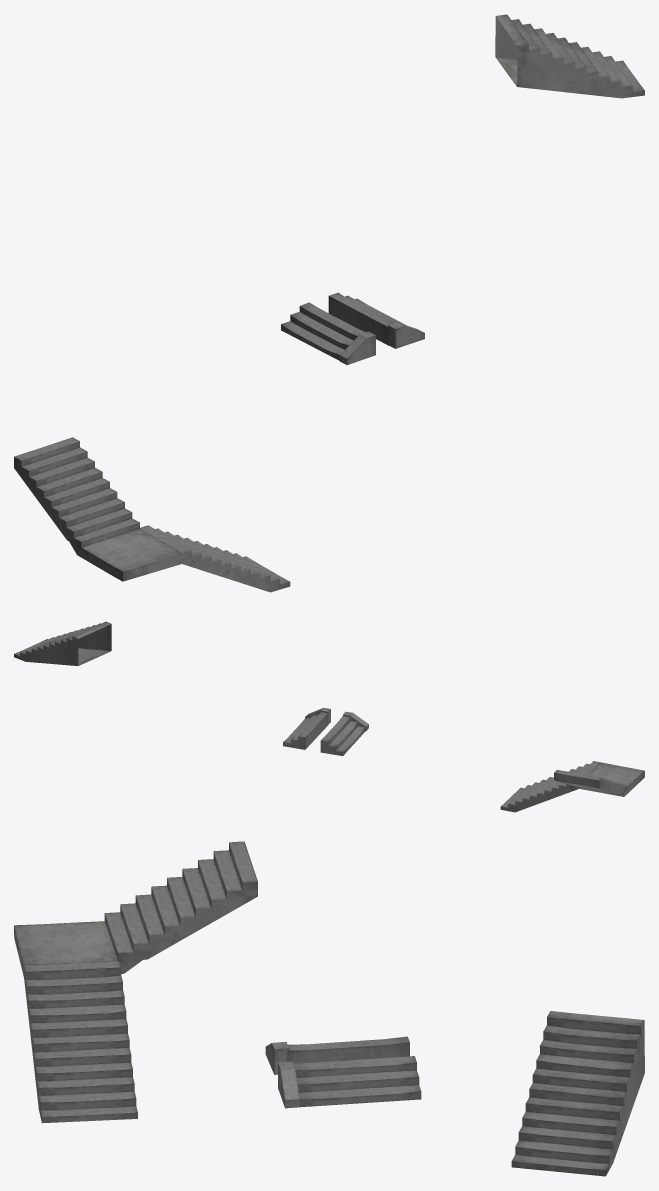
3 views of the same model, one above another, from view 1: azimuth 30°, elevation 25°; view 2: azimuth 150°, elevation 25°; view 3: azimuth 270°, elevation 25° (orthographic). The views are drawn at different scales.
Visible parts, largest first — view 1: Cube.034; view 2: Cube.034; view 3: Cube.034.
Boxes of the visible parts, box(x1,y1,x2,y2) form: Cube.034: box(14, 14, 644, 592); Cube.034: box(14, 621, 644, 812); Cube.034: box(14, 841, 644, 1176).
Size of the model in its own units: 3325 by 1246 by 1873.
